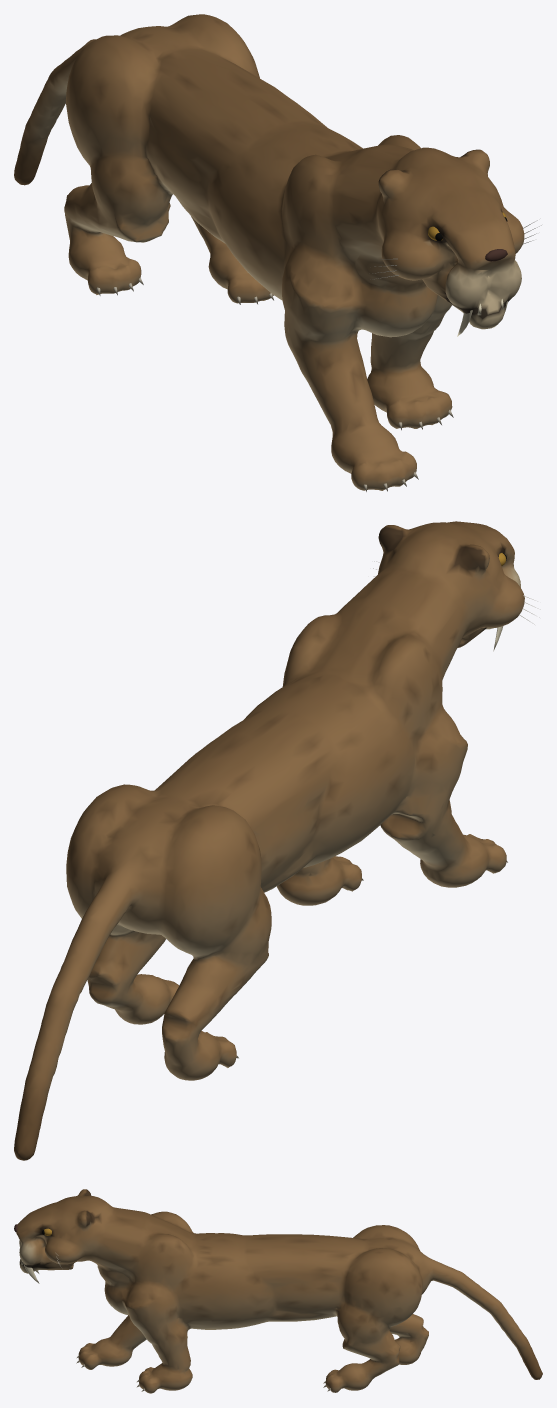
File: HoplophoneusPrimaevus.fbx
3 views of the same model, one above another, from view 1: azimuth 30°, elevation 25°; view 2: azimuth 150°, elevation 25°; view 3: azimuth 270°, elevation 25° (orthographic). The views are drawn at different scales.
Parts seen in each view (by area): view 1: HoplophoneusPrimaevus; view 2: HoplophoneusPrimaevus; view 3: HoplophoneusPrimaevus.
Boxes of the visible parts, x1,y1,x2,y2 form: HoplophoneusPrimaevus: (14, 14, 541, 491); HoplophoneusPrimaevus: (14, 521, 540, 1160); HoplophoneusPrimaevus: (14, 1189, 542, 1393).
Bounding box in the file's own units: 0.4792 × 0.8631 × 2.28.
